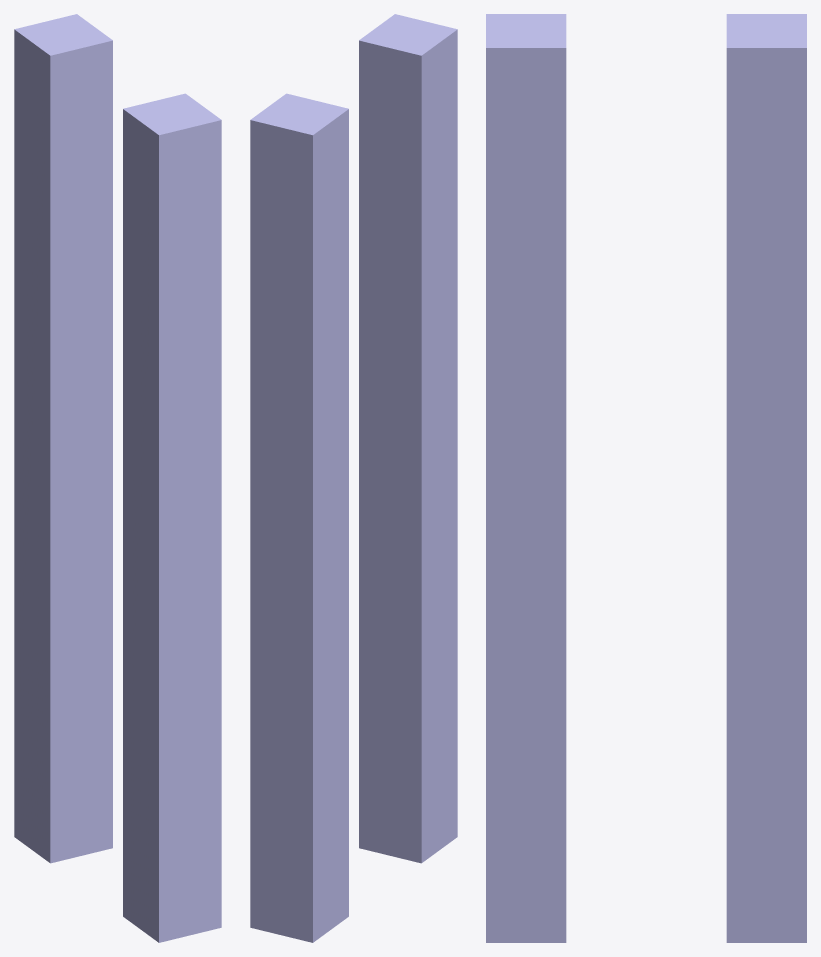
File: OPPPDetSupportTableLeg.gltf
3 views of the same model, side by side, from view 1: azimuth 30°, elevation 25°; view 2: azimuth 150°, elevation 25°; view 3: azimuth 270°, elevation 25° (orthographic). The views are drawn at different scales.
Parts seen in each view (by area): view 1: logicOPPPDetSupportTableLeg_pv0x2276af0, logicOPPPDetSupportTableLeg_pv0x2276b28; view 2: logicOPPPDetSupportTableLeg_pv0x2276af0, logicOPPPDetSupportTableLeg_pv0x2276b28; view 3: logicOPPPDetSupportTableLeg_pv0x2276af0, logicOPPPDetSupportTableLeg_pv0x2276b28.
Part boxes in pixels (box(x1,y1,x2,y2)): logicOPPPDetSupportTableLeg_pv0x2276af0: box(14, 14, 112, 863); logicOPPPDetSupportTableLeg_pv0x2276b28: box(123, 93, 221, 942); logicOPPPDetSupportTableLeg_pv0x2276af0: box(250, 93, 348, 942); logicOPPPDetSupportTableLeg_pv0x2276b28: box(359, 14, 457, 863); logicOPPPDetSupportTableLeg_pv0x2276af0: box(726, 14, 806, 942); logicOPPPDetSupportTableLeg_pv0x2276b28: box(486, 14, 566, 942).
Bounding box in the file's own units: 3.5 × 43.08 × 14.
